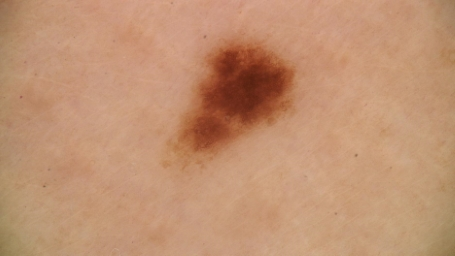nevus: (176, 45, 297, 152)
